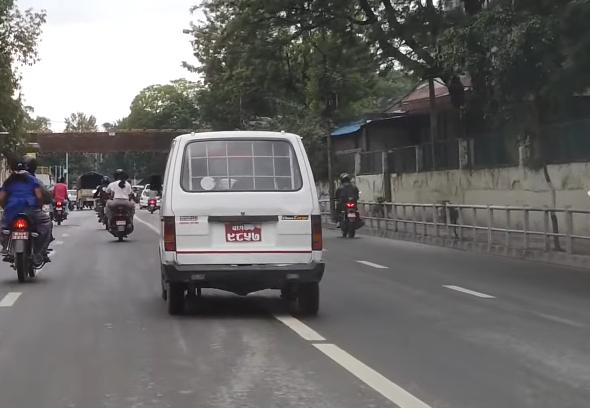bike: (0, 199, 57, 288), (330, 187, 367, 240)
van: (144, 122, 329, 324)
